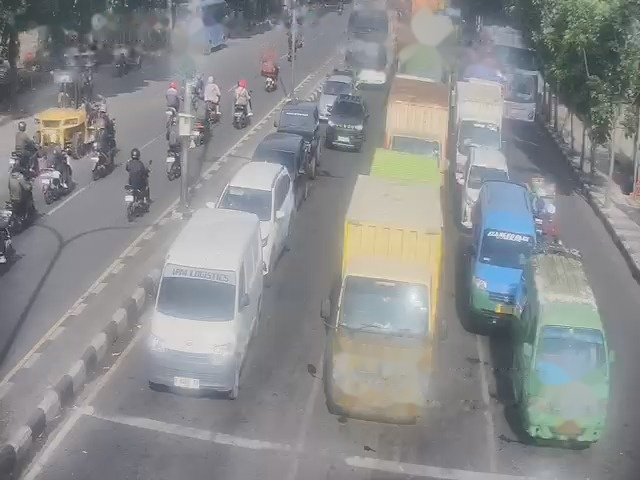Bis: (342, 6, 389, 85)
Mobil: (149, 215, 266, 400), (512, 250, 616, 444), (473, 180, 548, 322), (228, 163, 284, 252), (321, 63, 370, 151), (275, 98, 316, 146)
Motor: (232, 82, 251, 127)
Truk: (337, 154, 453, 425), (385, 43, 451, 173), (456, 81, 503, 161)
